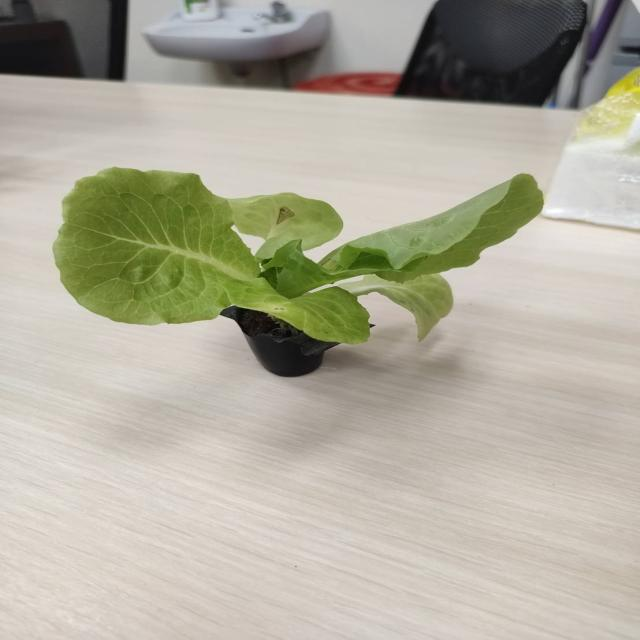Lettuce-Not-Ready-to-Harvest: (53, 168, 543, 344)
